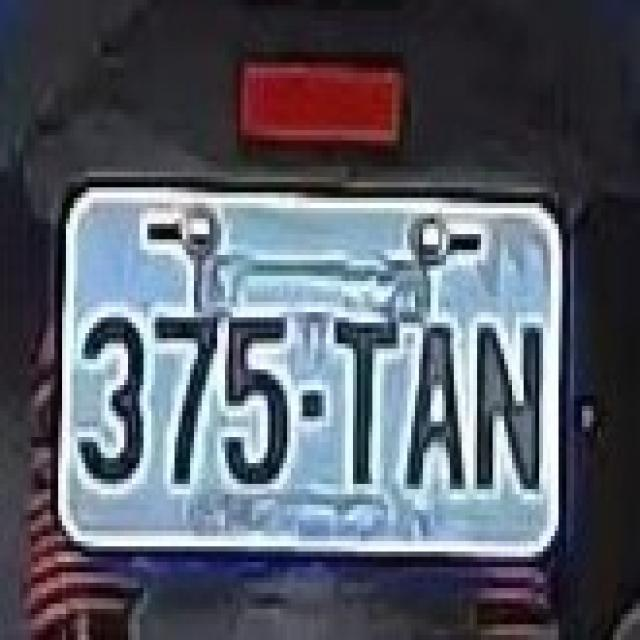license-plate: (57, 171, 567, 572)
